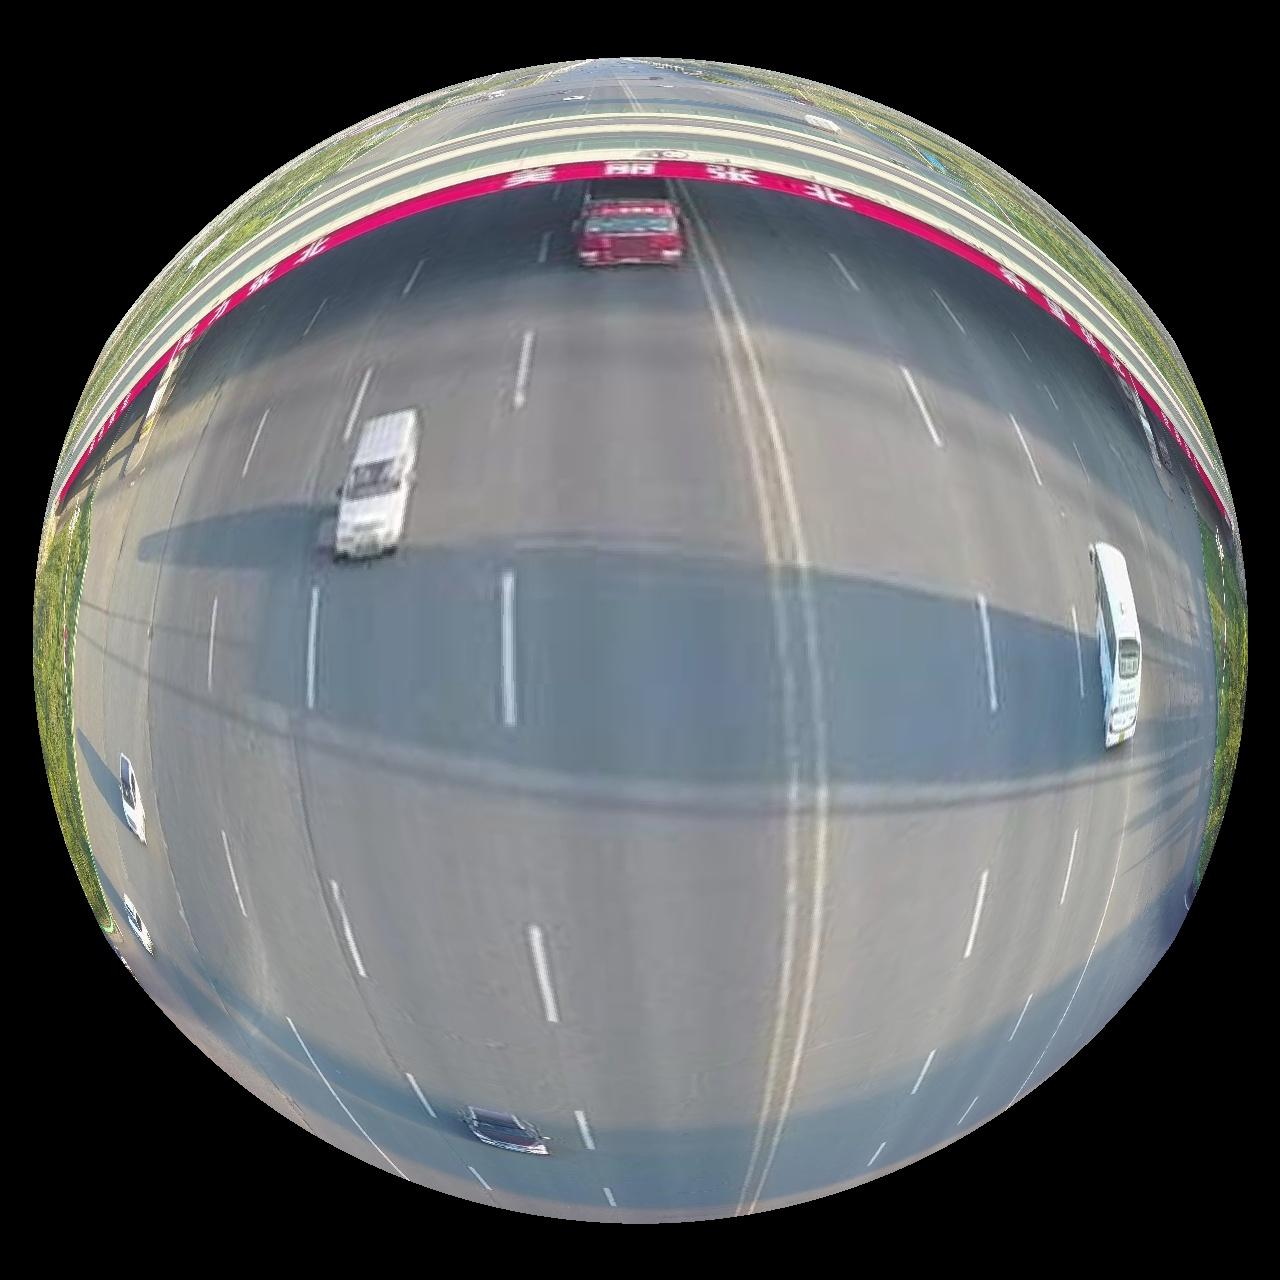cars: (334, 408, 418, 558), (1094, 543, 1144, 749), (572, 177, 686, 266), (464, 1108, 549, 1157), (118, 754, 145, 844), (121, 896, 154, 955)
